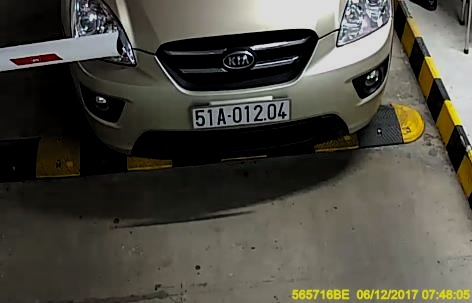plate: (190, 98, 293, 131)
